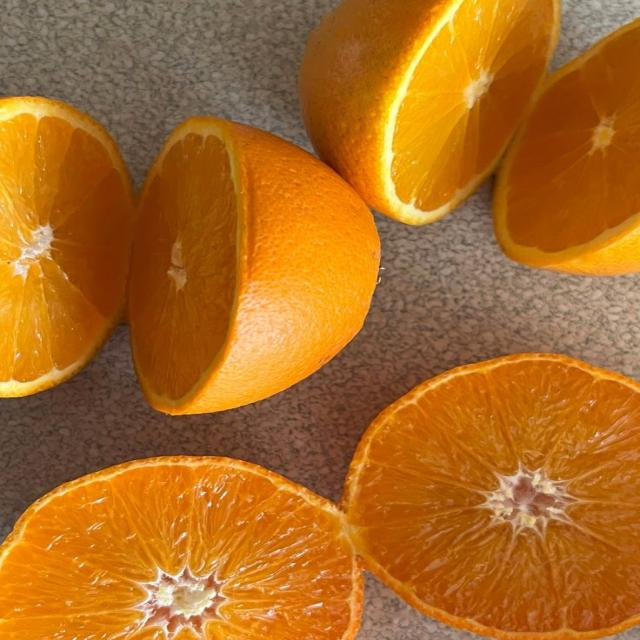orange: (344, 355, 639, 639), (128, 118, 379, 414), (0, 457, 361, 639), (300, 0, 559, 224), (0, 97, 133, 396), (495, 20, 639, 275)
